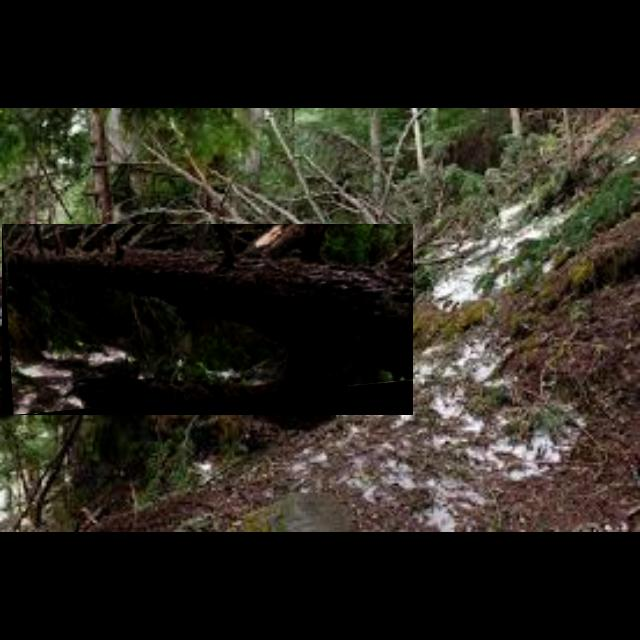Fallen Tree: (2, 224, 414, 416)
